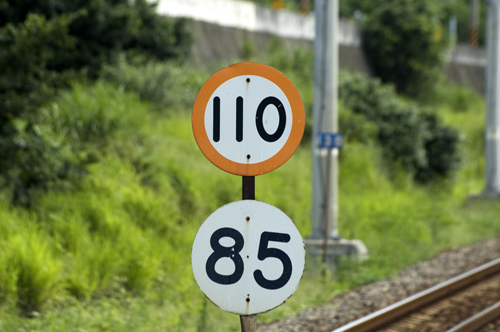Speed_limit_110km: (192, 61, 305, 176)
